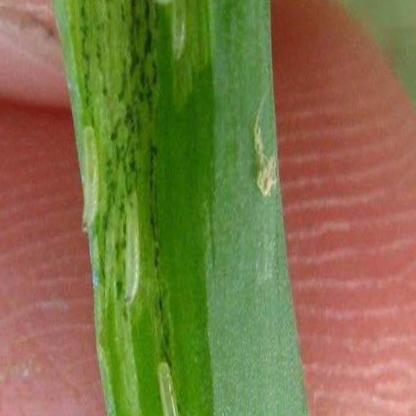whorl-maggot: (120, 190, 144, 314), (81, 119, 99, 237), (154, 359, 182, 416)
